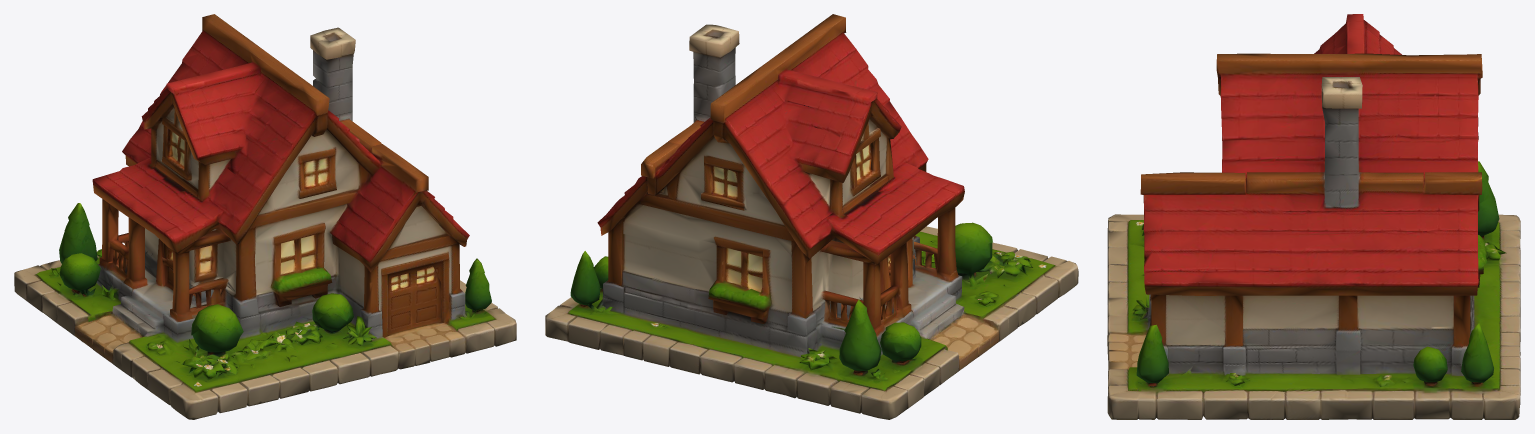
File: house_small_stage2.glb
3 views of the same model, side by side, from view 1: azimuth 30°, elevation 25°; view 2: azimuth 150°, elevation 25°; view 3: azimuth 270°, elevation 25° (orthographic). The views are drawn at different scales.
Parts seen in each view (by area): view 1: tripo_node_7e232407-1c28-49cd-a4d0-db2530fc7f2b; view 2: tripo_node_7e232407-1c28-49cd-a4d0-db2530fc7f2b; view 3: tripo_node_7e232407-1c28-49cd-a4d0-db2530fc7f2b.
Part boxes in pixels (bbox=[...]): tripo_node_7e232407-1c28-49cd-a4d0-db2530fc7f2b: bbox=[14, 14, 516, 419]; tripo_node_7e232407-1c28-49cd-a4d0-db2530fc7f2b: bbox=[545, 14, 1078, 419]; tripo_node_7e232407-1c28-49cd-a4d0-db2530fc7f2b: bbox=[1107, 14, 1520, 419].
Size of the model in its own units: 1 by 0.7247 by 0.9418.
Materials: 1 (1 with a texture image).
